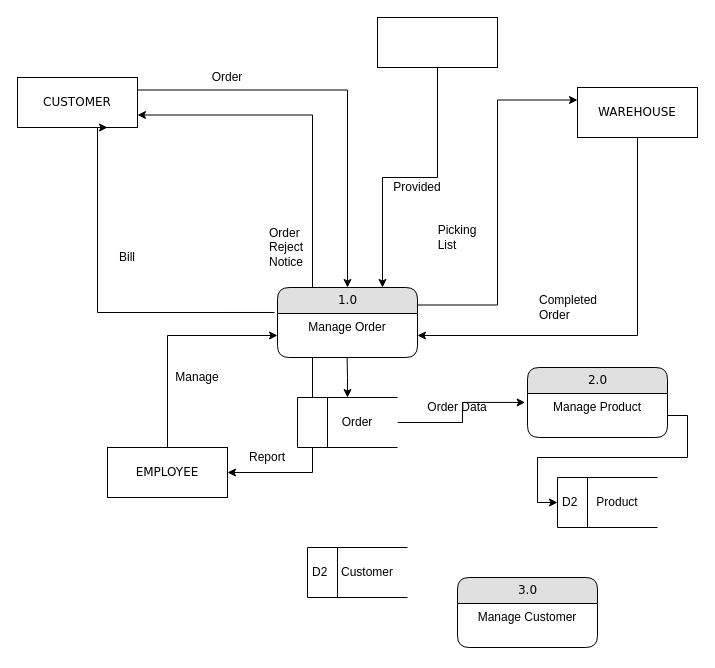
This 715x668 diagram has some shape labels left out. Each missing label, with the box of its shape:
D1: (296, 396, 398, 448)
SUPPLIER: (376, 16, 498, 68)
